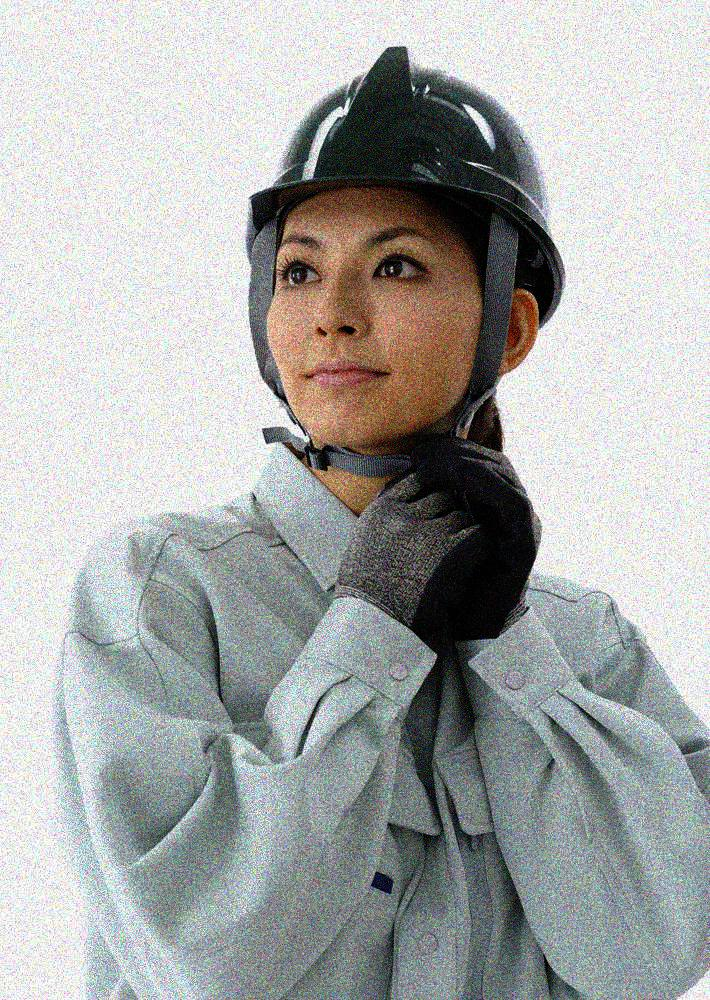helmet: (237, 40, 570, 446)
